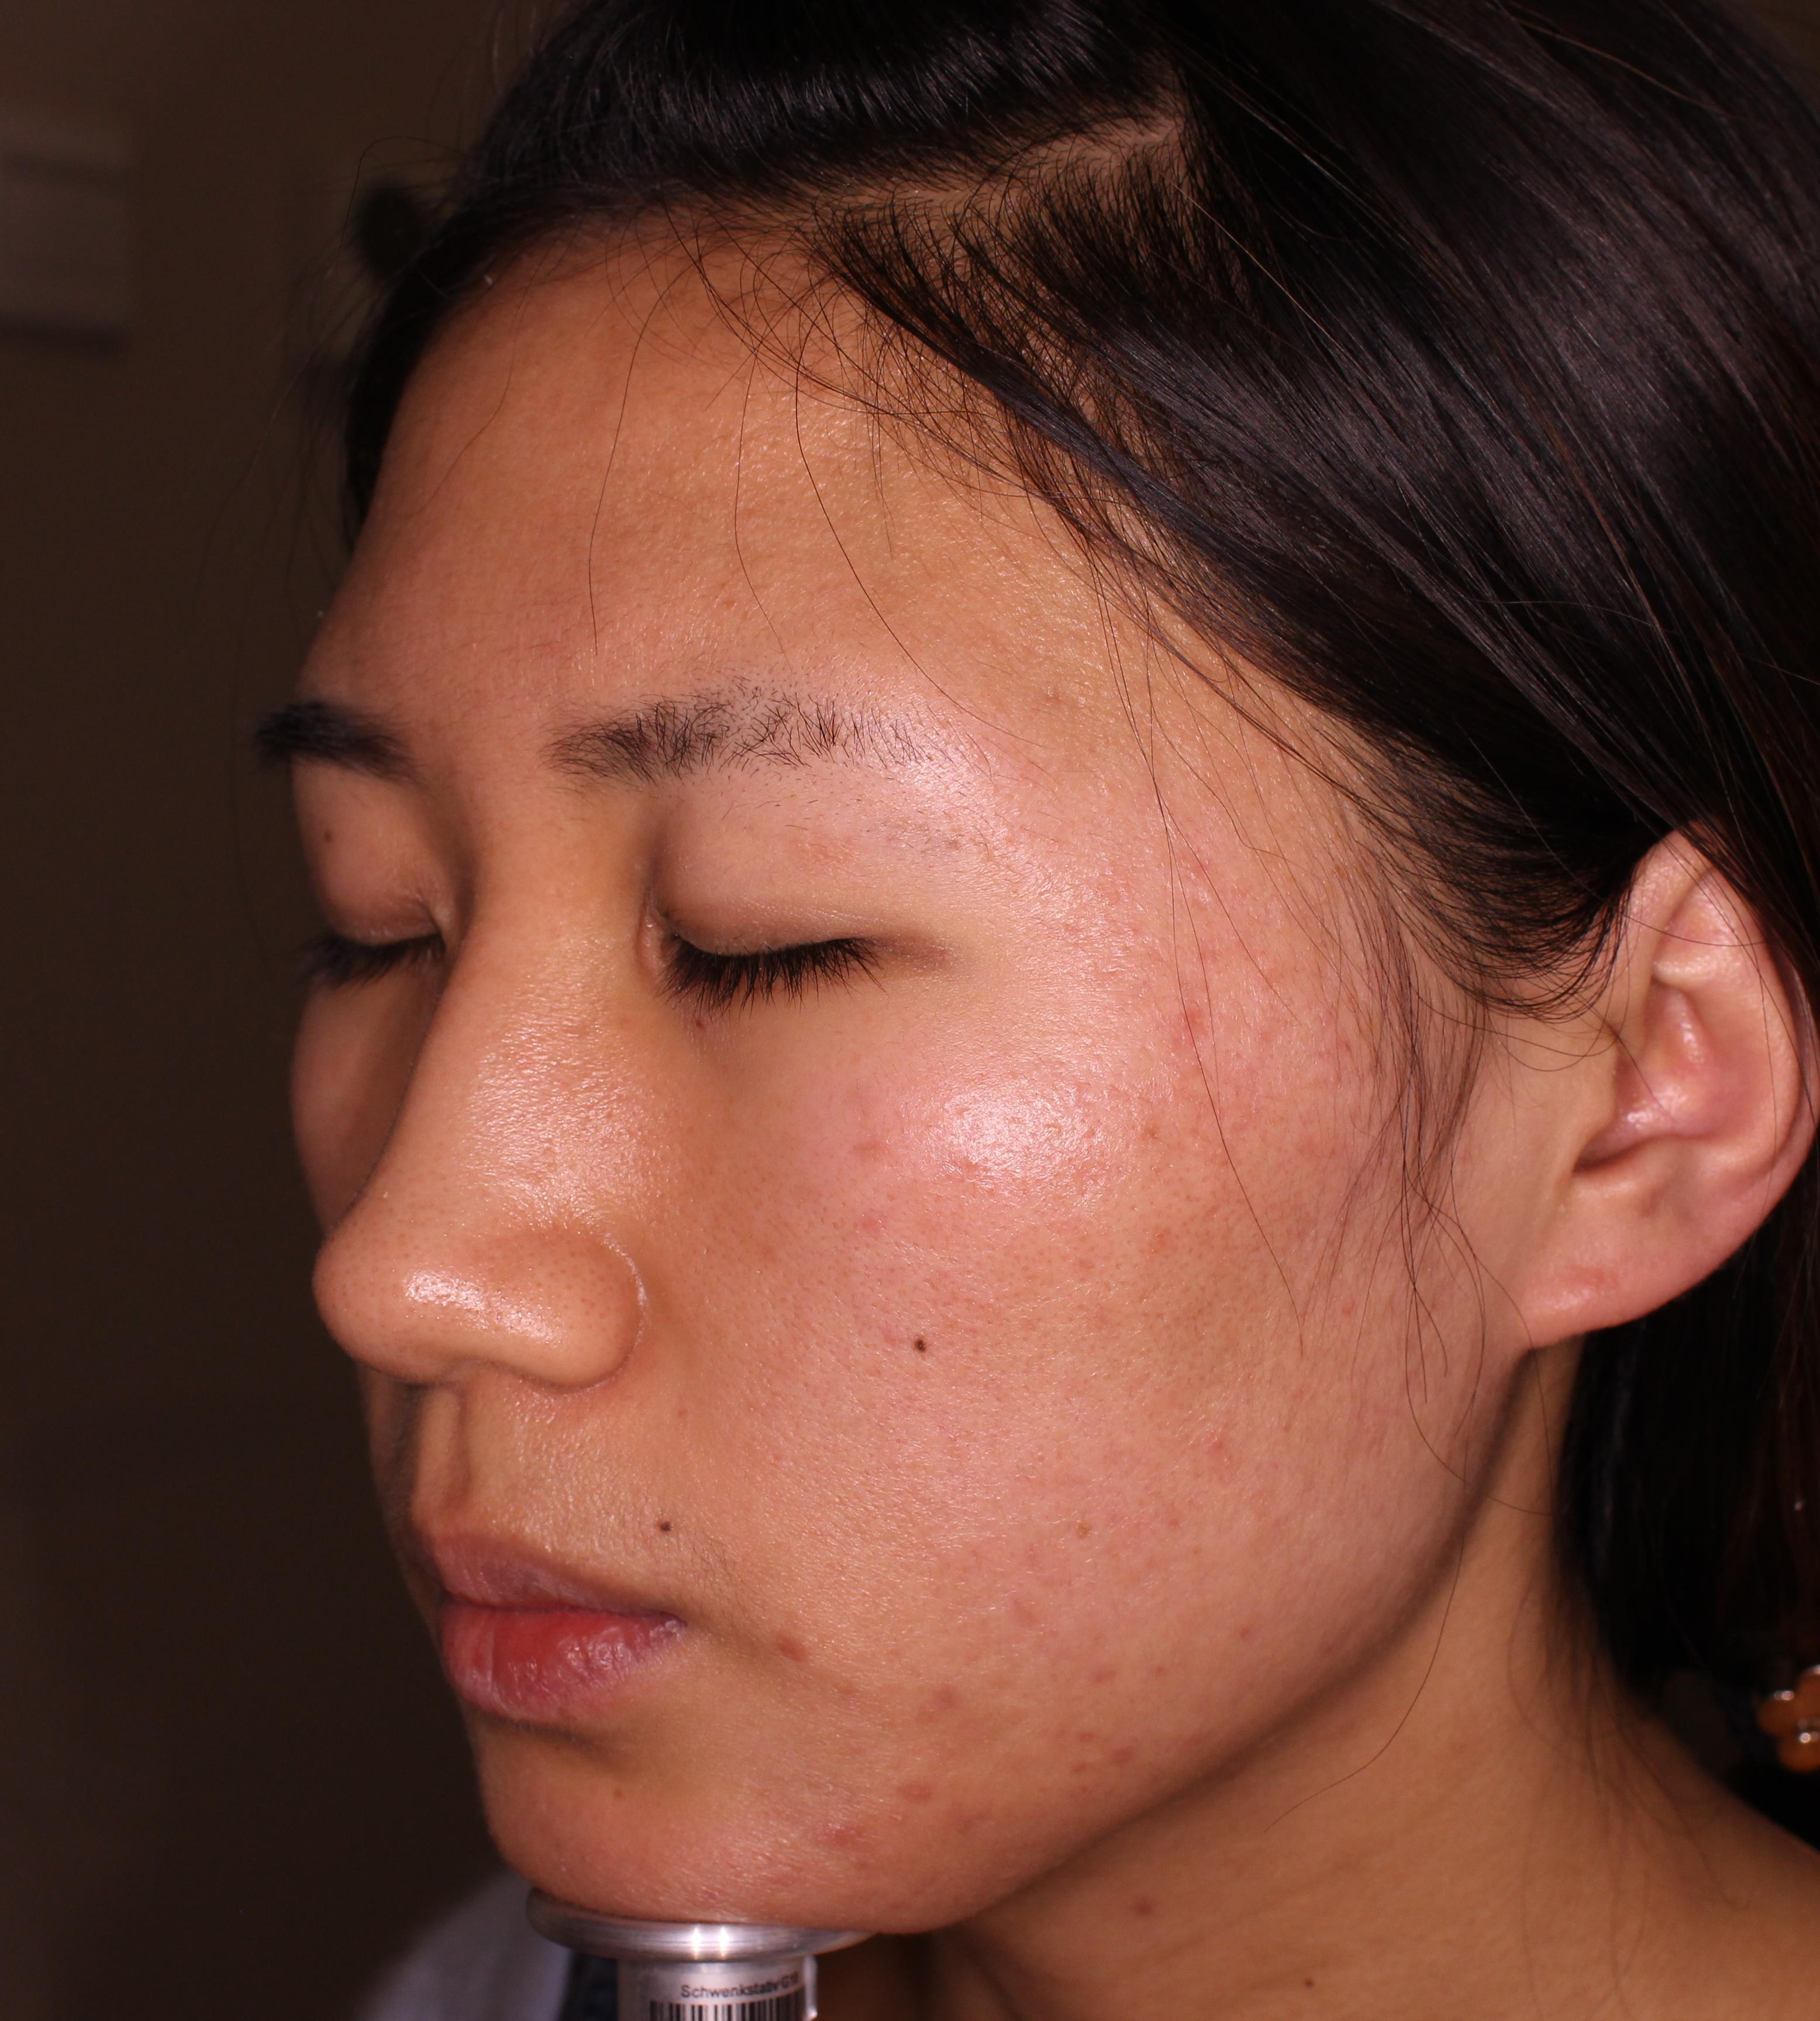fore: (791, 1791, 906, 1898), (1149, 967, 1247, 1061), (1086, 1710, 1193, 1791), (892, 1670, 991, 1742), (768, 1621, 857, 1687), (870, 1754, 950, 1805)
